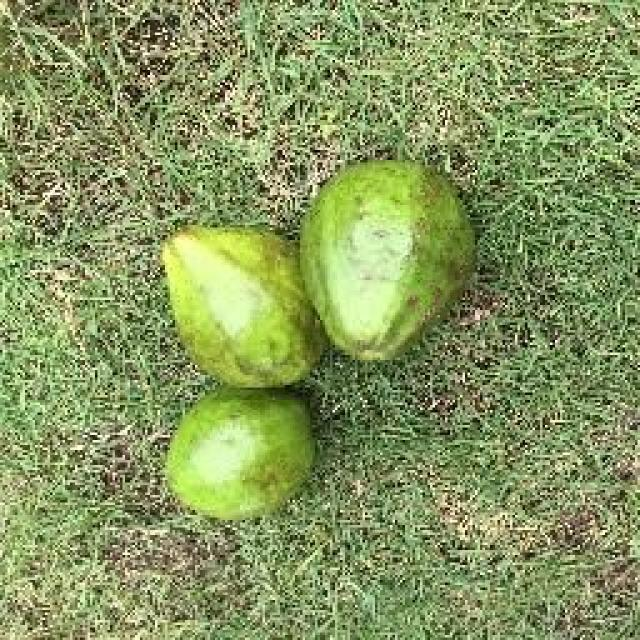Good_Guava: (298, 160, 475, 365), (160, 228, 332, 395), (165, 385, 315, 520)
